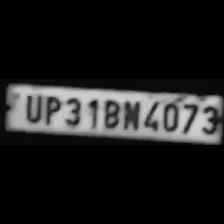0: (159, 100, 179, 132)
1: (83, 95, 101, 129)
3: (198, 100, 220, 136), (60, 94, 82, 128)
4: (140, 97, 160, 131)
7: (178, 100, 198, 134)
B: (100, 96, 120, 130)
N: (120, 97, 140, 130)
P: (41, 93, 61, 125)
U: (20, 90, 42, 124)
